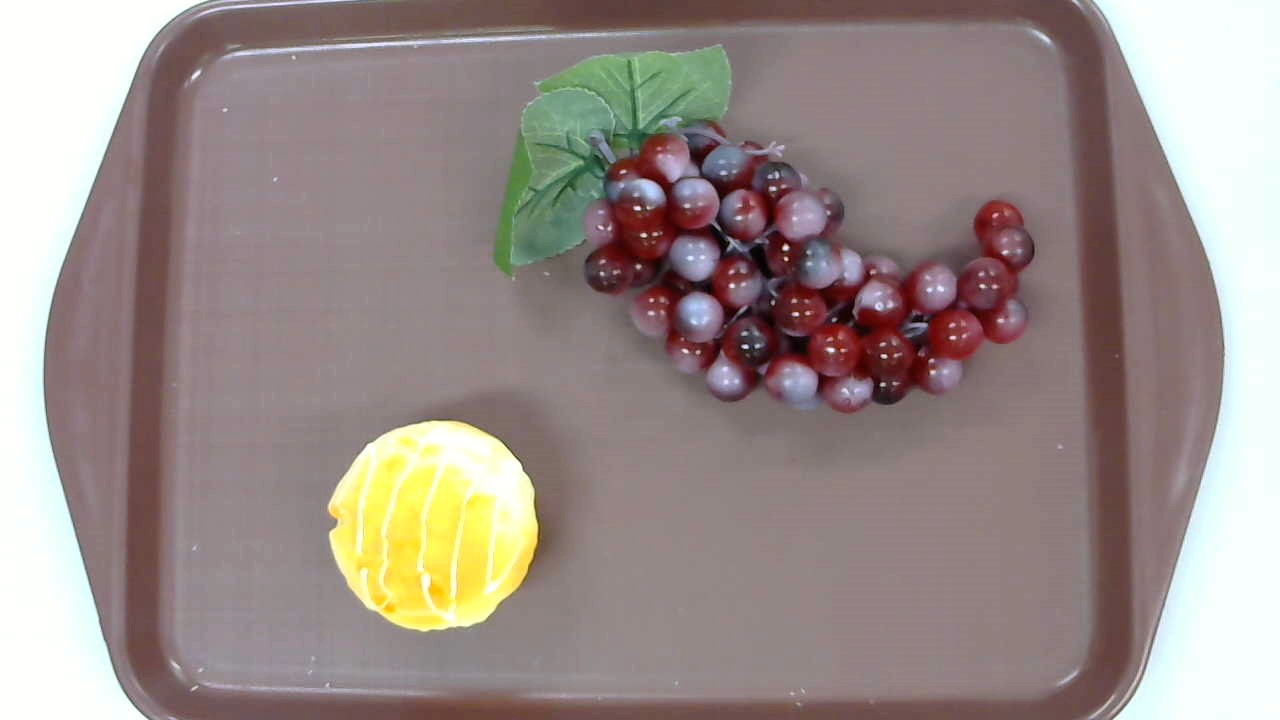cupcake: (326, 421, 540, 633)
grape: (491, 43, 1035, 416)
